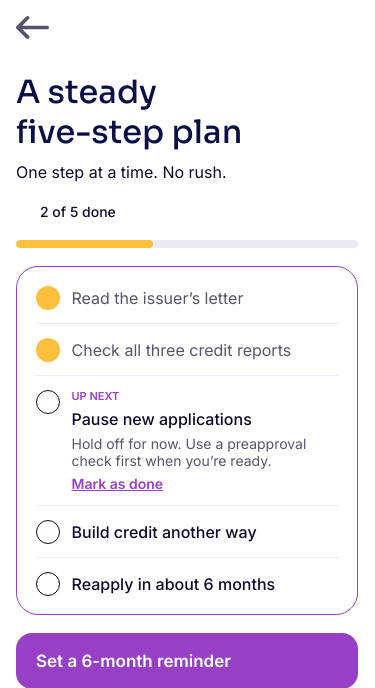
DeniedPlanView › loads saved stars, opens the step up next, and lights or puts out a star
Expected: the text "2 of 5 done" is shown, [40,203,116,220]
Expected: the text "Pause new applications" is shown, [72,408,252,428]
Click the button "Mark as done" at (117, 483), box [72,474,163,492]
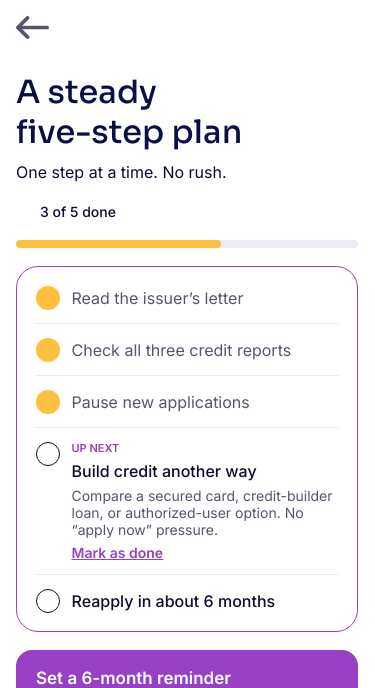
Now the text "3 of 5 done" is shown, box [40,203,116,220]
Now the text "Build credit another way" is shown, box [72,460,257,480]
Click the button "Read the issuer’s letter" at (187, 298), box [36,272,338,324]
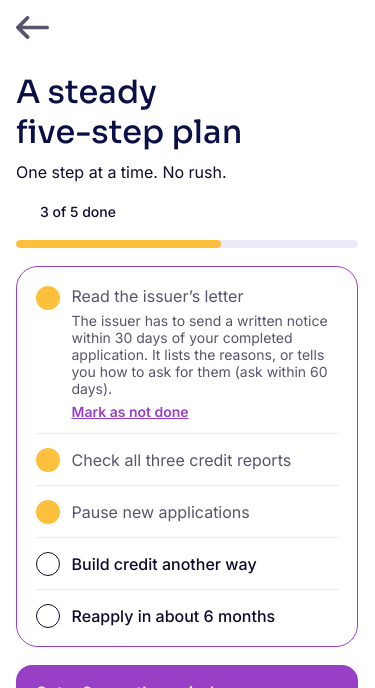
Click the button "Mark as not done" at (130, 411), box [72,402,189,420]
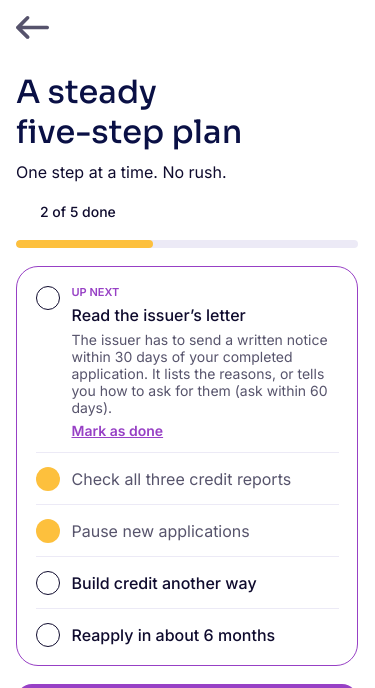
Now the text "2 of 5 done" is shown, box [40,203,116,220]
